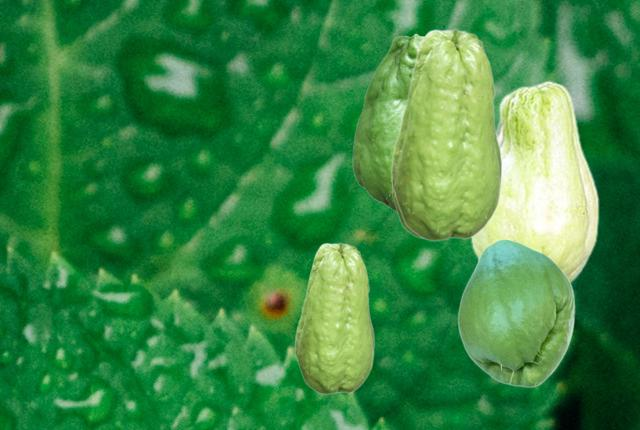sayote: (468, 80, 598, 283), (390, 28, 502, 241), (457, 239, 574, 387), (352, 33, 423, 211), (294, 242, 374, 394), (391, 186, 420, 238)
